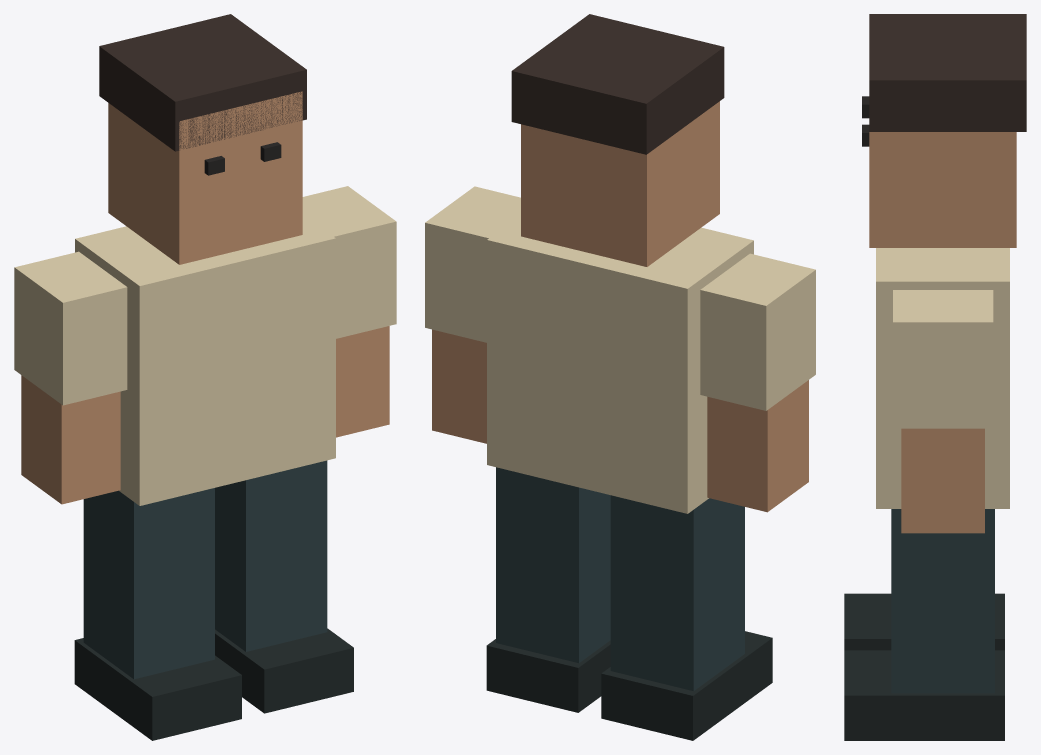
The model's file is player.glb.
3 views of the same model, side by side, from view 1: azimuth 30°, elevation 25°; view 2: azimuth 150°, elevation 25°; view 3: azimuth 270°, elevation 25° (orthographic). The views are drawn at different scales.
Size of the model in its own units: 1.19 by 2.12 by 0.545.
